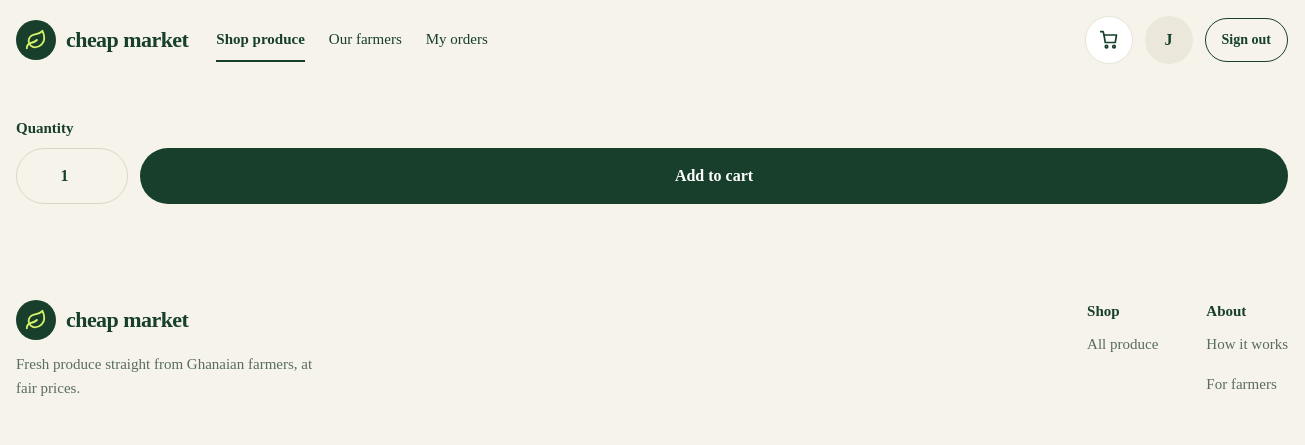
AddToCart › shows the API error when the product can no longer be added
Click the button "Add to cart": (714,176) [140,148,1288,204]
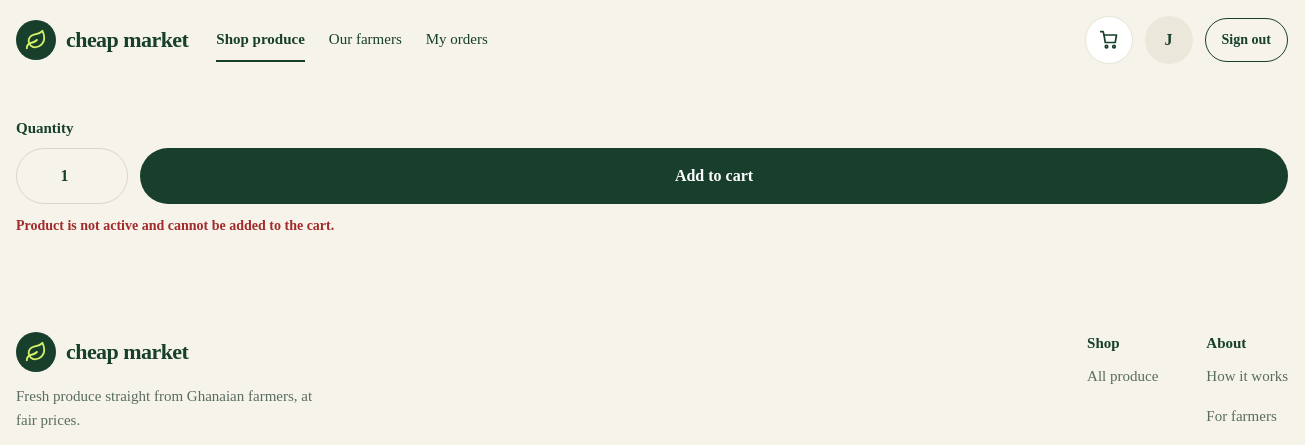
Check: the message reads "Product is not active and cannot be added to the cart.", box [16,218,334,233]
